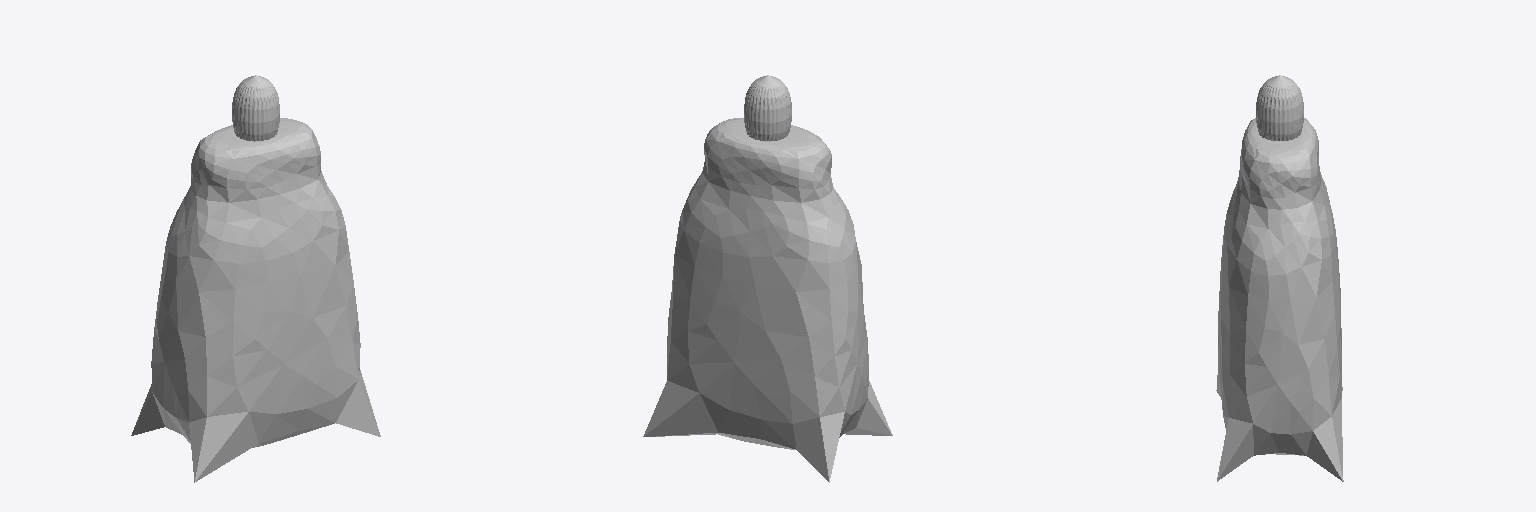
The model's file is wierd.obj.
3 renders of one model, left to right at view 1: azimuth 30°, elevation 25°; view 2: azimuth 150°, elevation 25°; view 3: azimuth 270°, elevation 25°, orthographic.
Visible parts, largest first — view 1: Cube; view 2: Cube; view 3: Cube.
Boxes of the visible parts, x1,y1,x2,y2 form: Cube: [131, 75, 380, 482]; Cube: [643, 75, 892, 482]; Cube: [1216, 75, 1343, 481].
Bounding box in the file's own units: 1 × 1.85 × 0.59.